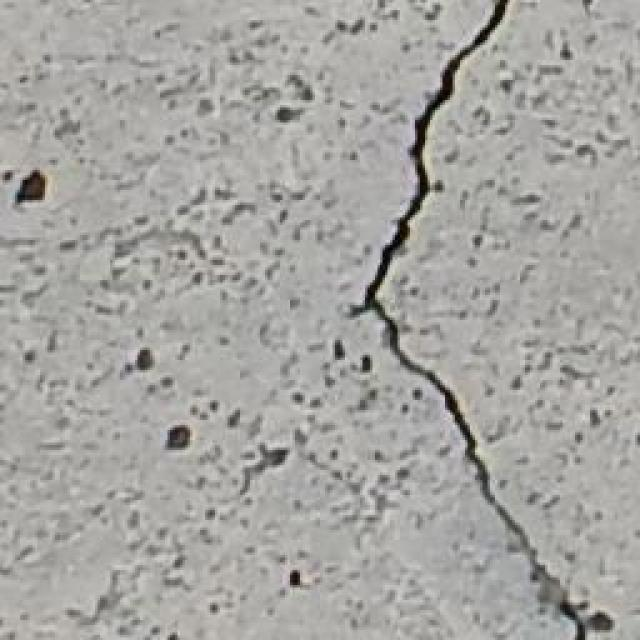concrete-crack: (348, 0, 615, 640)
